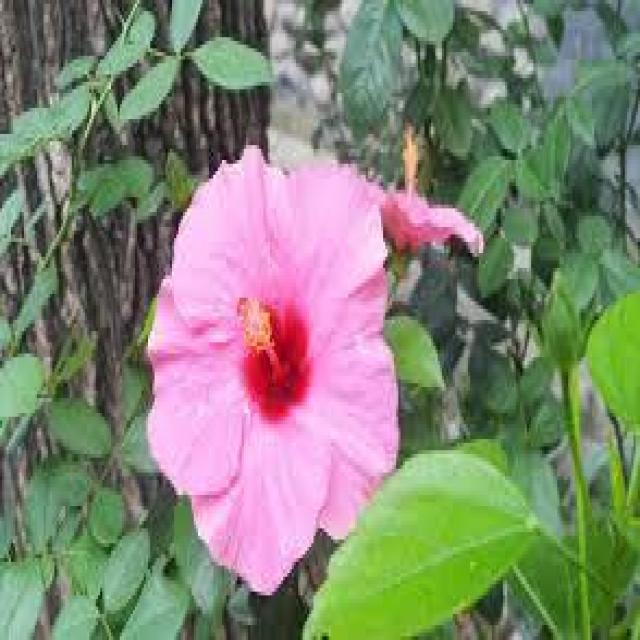organic waste: (143, 134, 419, 566)
